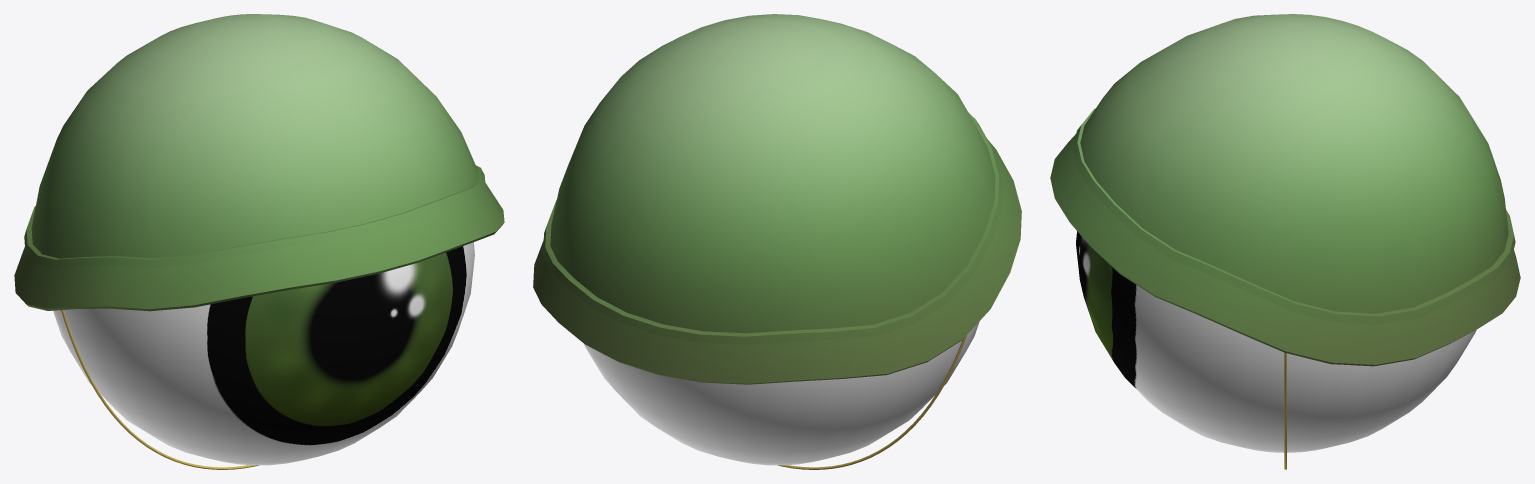
The model's file is Ally1.fbx.
3 renders of one model, left to right at view 1: azimuth 30°, elevation 25°; view 2: azimuth 150°, elevation 25°; view 3: azimuth 270°, elevation 25°, orthographic. The views are drawn at different scales.
Parts seen in each view (by area): view 1: Ally1; view 2: Ally1; view 3: Ally1.
Part boxes in pixels (<box>): Ally1: <box>14,14,504,469</box>; Ally1: <box>533,14,1021,469</box>; Ally1: <box>1050,14,1520,469</box>.
Size of the model in its own units: 343 by 330 by 336.
